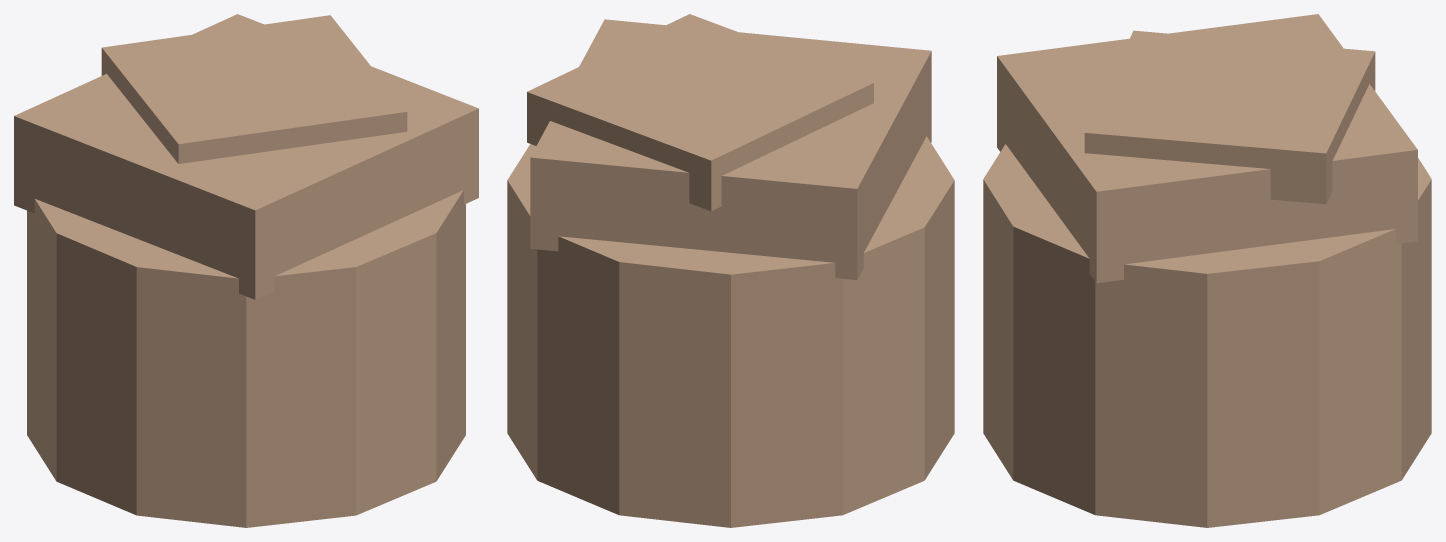
File: sub_manta_cesto.glb
The picture shows the model from 3 angles, left to right: view 1: azimuth 30°, elevation 25°; view 2: azimuth 150°, elevation 25°; view 3: azimuth 270°, elevation 25°; orthographic projection. The views are drawn at different scales.
Parts seen in each view (by area): view 1: SUB_MantaCesto_v01; view 2: SUB_MantaCesto_v01; view 3: SUB_MantaCesto_v01.
Boxes of the visible parts, left/top/right/bottom form: SUB_MantaCesto_v01: left=14, top=14, right=478, bottom=527; SUB_MantaCesto_v01: left=507, top=14, right=954, bottom=527; SUB_MantaCesto_v01: left=983, top=14, right=1431, bottom=527.
Size of the model in its own units: 0.4 by 0.345 by 0.4.
